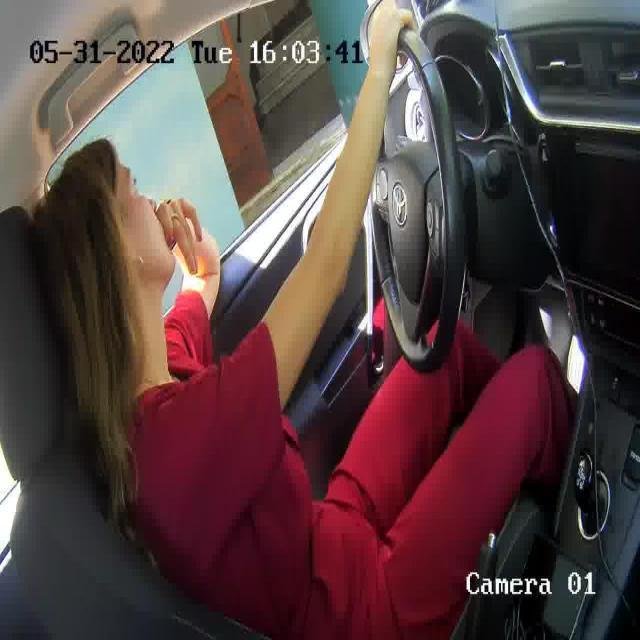Inattentive: (39, 137, 176, 295)
